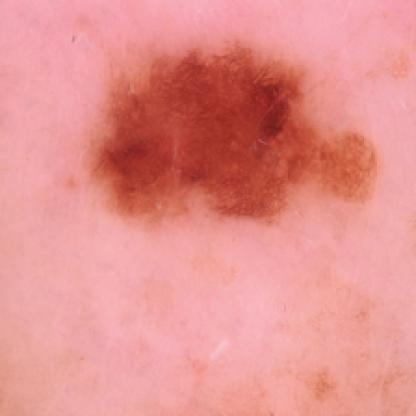benign: (76, 48, 388, 221)
